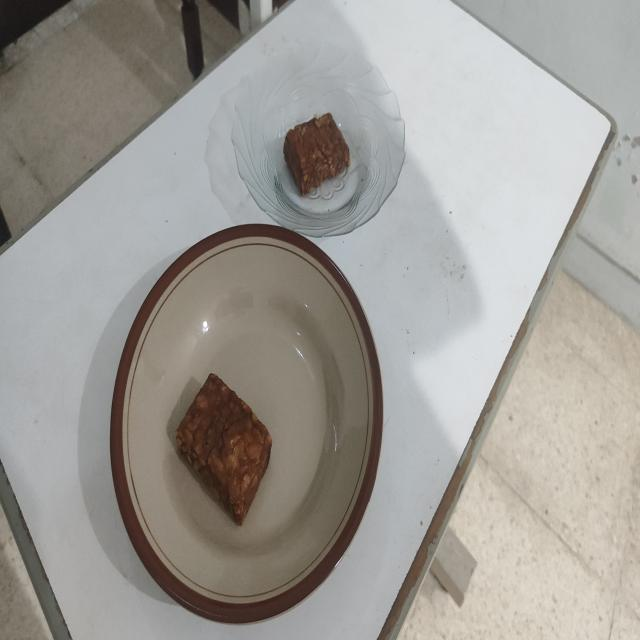tempe_goreng: (176, 374, 272, 526), (284, 114, 350, 195)
